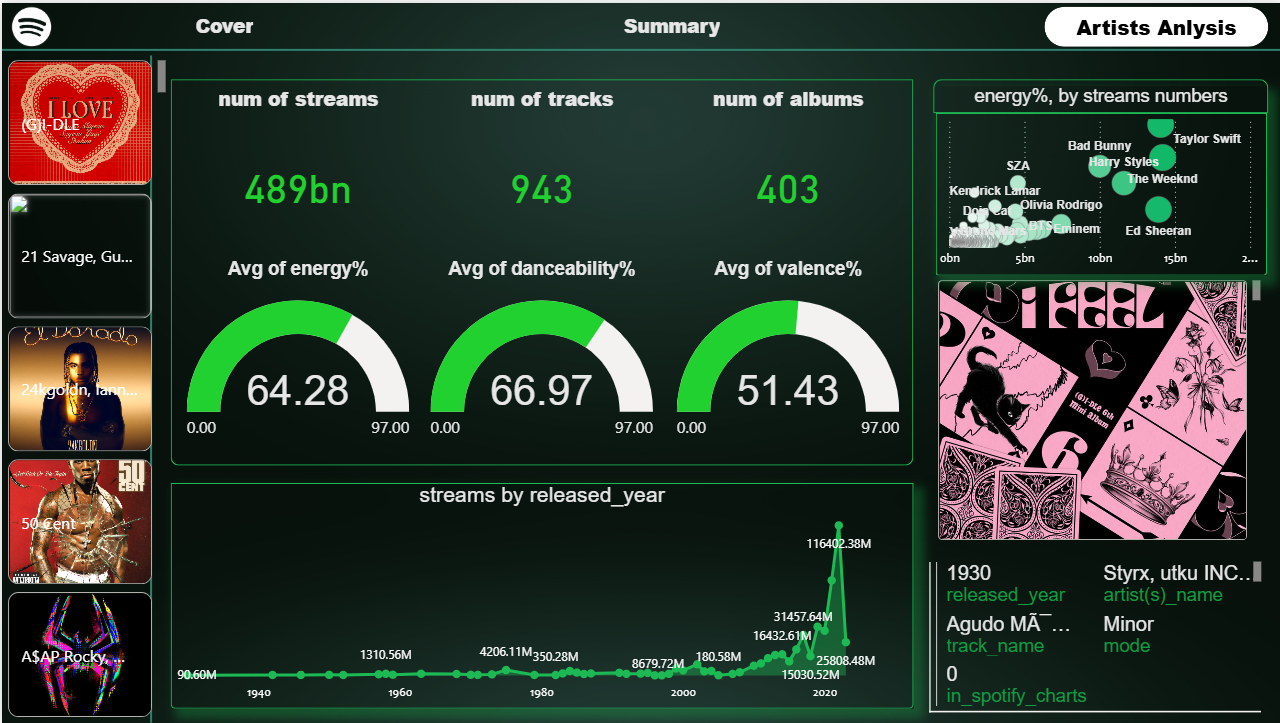

What the dashboard file says about the page in this screenshot:
{"tool":"powerbi","page":{"name":"Page 1","canvas":[1280,720],"ordinal":1},"visuals":[{"type":"group","id":"g1","title":"Group 1","box":[170,82.5,742.5,390],"z":0},{"type":"shape","box":[170,82.5,742.5,54.3],"z":0,"group":"g1"},{"type":"shape","box":[922.5,82.5,342.5,60],"z":0,"group":"g3"},{"type":"shape","box":[170,493.8,383.8,46.5],"z":0,"group":"g2"},{"type":"shape","box":[170,136.3,742.5,336.2],"z":1000,"group":"g1"},{"type":"shape","box":[922.5,139.6,342.5,322.9],"z":1000,"group":"g3"},{"type":"group","id":"g2","title":"Group 1","box":[170,493.8,385,218.8],"z":1000},{"type":"shape","box":[564.3,494.3,701.4,225.7],"z":1000,"group":"g4"},{"type":"shape","box":[170,540.9,385,171.6],"z":1000,"group":"g2"},{"type":"group","id":"g3","title":"Group 1","box":[922.5,82.5,342.5,380],"z":2000},{"type":"card","fields":{"Values":["Count(Spotify Dataset.track_name)"]},"box":[1162.5,86.2,103.8,213.8],"z":3000},{"type":"card","fields":{"Values":["Count(Spotify Dataset.artist(s)_name)"]},"box":[1006.2,86.2,87.5,213.8],"z":4000},{"type":"group","id":"g4","title":"Group 1","box":[564.3,494.3,701.4,225.7],"z":5000},{"type":"shape","box":[0,39.9,1280,21.8],"z":6000},{"type":"shape","box":[138.6,52.9,15.7,667.1],"z":7000},{"type":"clusteredBarChart","fields":{"Category":["Spotify Dataset.artist(s)_name"],"Y":["Sum(Spotify Dataset.streams)"]},"box":[167.1,141.4,744.3,321.4],"z":8000},{"type":"lineChart","fields":{"Category":["Spotify Dataset.released_year"],"Y":["Sum(Spotify Dataset.streams)"]},"box":[563.8,483.8,702.5,236.2],"z":9000},{"type":"donutChart","fields":{"Y":["Sum(Spotify Dataset.streams)"],"Series":["Spotify Dataset.mode"]},"box":[922.5,273.8,342.5,188.8],"z":10000},{"type":"pivotTable","fields":{"Rows":["Spotify Dataset.track_name"],"Values":["Sum(Spotify Dataset.streams)"]},"box":[168.8,532.5,383.8,180],"z":11000},{"type":"slicer","fields":{"Values":["Spotify Dataset.artist(s)_name - Copy.1"]},"box":[7.5,51.2,138.8,80],"z":12000},{"type":"slicer","fields":{"Values":["Spotify Dataset.mode"]},"box":[0,161.2,138.8,138.8],"z":13000},{"type":"slicer","fields":{"Values":["Spotify Dataset.released_year"]},"box":[0,352.5,138.8,131.2],"z":14000},{"type":"textbox","box":[168.8,96.2,742.5,40],"z":15000},{"type":"textbox","box":[922.5,98.8,342.5,40],"z":16000},{"type":"image","box":[1093.8,147.5,68.8,106.2],"z":17000},{"type":"image","box":[932.5,151.2,57.5,85],"z":18000},{"type":"textbox","box":[170,501.2,342.5,40],"z":19000},{"type":"shape","box":[146.2,5,147.5,40],"z":20000},{"type":"shape","box":[1107.5,5,172.5,40],"z":21000},{"type":"shape","box":[640,5,147.5,40],"z":22000},{"type":"image","box":[0,5,72.5,40],"z":23000}]}

Visuals, with their boxes in screenshot pixels (x1, y1, x2, y2), scaled from the page's 1280x720 canvas onto the 1280x723 screenshot:
"Group 1" group: [170, 83, 912, 474]
shape: [170, 83, 912, 137]
shape: [922, 83, 1265, 143]
shape: [170, 496, 554, 543]
shape: [170, 137, 912, 474]
shape: [922, 140, 1265, 464]
"Group 1" group: [170, 496, 555, 716]
shape: [564, 496, 1266, 722]
shape: [170, 543, 555, 715]
"Group 1" group: [922, 83, 1265, 464]
card - Count(Spotify Dataset.track_name): [1162, 87, 1266, 301]
card - Count(Spotify Dataset.artist(s)_name): [1006, 87, 1094, 301]
"Group 1" group: [564, 496, 1266, 722]
shape: [0, 40, 1279, 62]
shape: [139, 53, 154, 722]
clusteredBarChart - Spotify Dataset.artist(s)_name x Sum(Spotify Dataset.streams): [167, 142, 911, 465]
lineChart - Spotify Dataset.released_year x Sum(Spotify Dataset.streams): [564, 486, 1266, 722]
donutChart - Sum(Spotify Dataset.streams) x Spotify Dataset.mode: [922, 275, 1265, 465]
pivotTable - Spotify Dataset.track_name x Sum(Spotify Dataset.streams): [169, 535, 553, 715]
slicer - Spotify Dataset.artist(s)_name - Copy.1: [8, 51, 146, 132]
slicer - Spotify Dataset.mode: [0, 162, 139, 301]
slicer - Spotify Dataset.released_year: [0, 354, 139, 486]
textbox: [169, 97, 911, 137]
textbox: [922, 99, 1265, 139]
image: [1094, 148, 1163, 255]
image: [932, 152, 990, 237]
textbox: [170, 503, 512, 543]
shape: [146, 5, 294, 45]
shape: [1108, 5, 1279, 45]
shape: [640, 5, 788, 45]
image: [0, 5, 72, 45]
